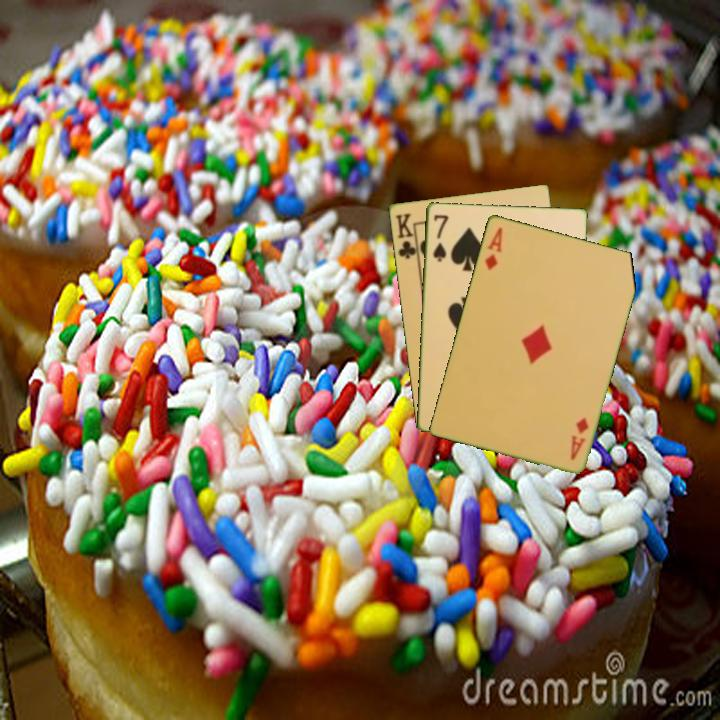7s: (429, 211, 451, 264)
Ad: (481, 223, 505, 273), (567, 414, 591, 463)
Kc: (391, 210, 421, 263)
